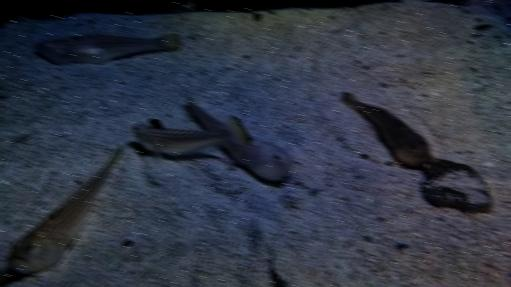Fish: (0, 146, 122, 277), (342, 92, 433, 168), (131, 116, 246, 165), (35, 33, 180, 64), (224, 127, 294, 182), (269, 259, 283, 286)
